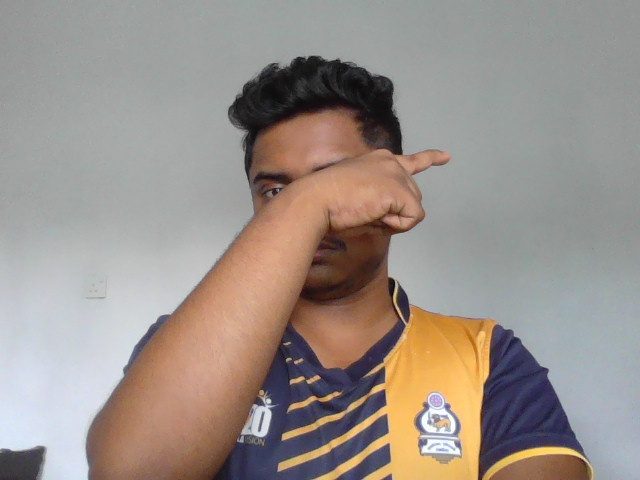Going To: (315, 147, 456, 232)
